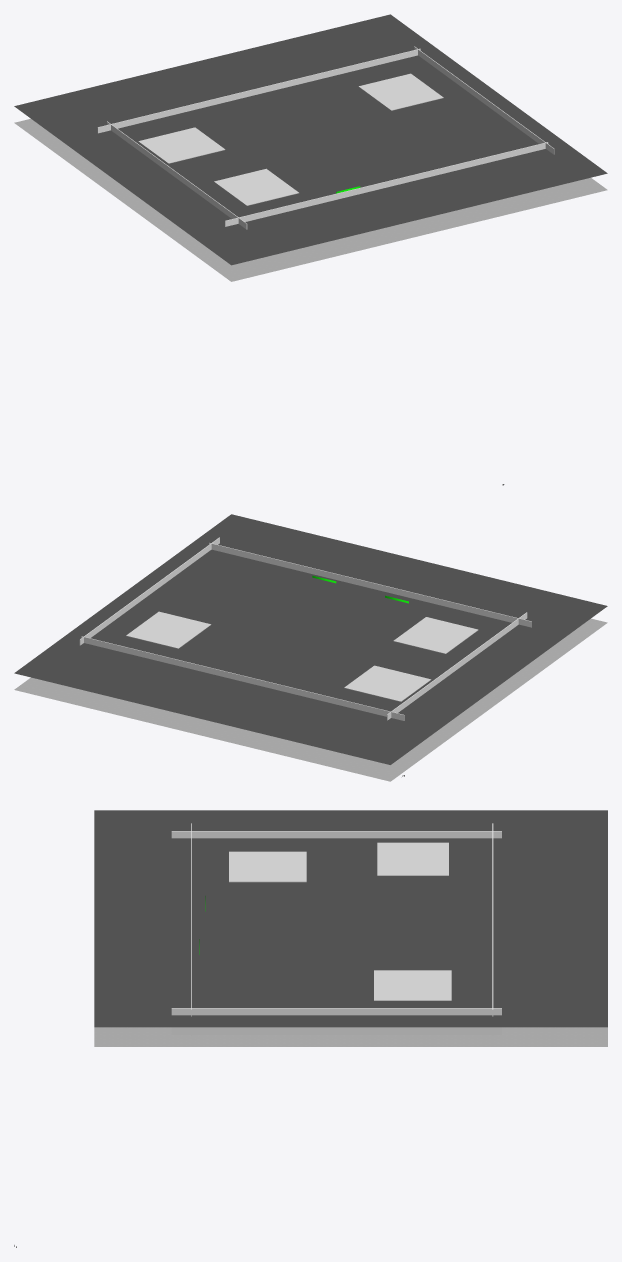
Rendered from floor4.glb.
3 renders of one model, top to bottom at view 1: azimuth 30°, elevation 25°; view 2: azimuth 150°, elevation 25°; view 3: azimuth 270°, elevation 25°, orthographic. The views are drawn at different scales.
Parts seen in each view (by area): view 1: Ceiling, Floor, Wall.001, Wall.002, Roomblock.001, Roomblock.002, Roomblock, Wall, Wall.003; view 2: Ceiling, Floor, Wall.001, Wall.002, Roomblock.001, Roomblock, Roomblock.002, Wall.003, Wall; view 3: Ceiling, Floor, Wall, Wall.003, Roomblock.002, Roomblock.001, Roomblock.
Boxes of the visible parts, bbox=[...] form: Ceiling: bbox=[14, 14, 607, 265]; Floor: bbox=[14, 118, 607, 281]; Wall.001: bbox=[97, 48, 420, 133]; Wall.002: bbox=[225, 142, 548, 226]; Roomblock.001: bbox=[138, 127, 225, 163]; Roomblock.002: bbox=[214, 168, 298, 205]; Roomblock: bbox=[358, 73, 443, 110]; Wall: bbox=[414, 46, 554, 154]; Wall.003: bbox=[107, 121, 247, 229]; Ceiling: bbox=[14, 514, 607, 764]; Floor: bbox=[14, 618, 607, 781]; Wall.001: bbox=[81, 636, 404, 720]; Wall.002: bbox=[209, 543, 531, 627]; Roomblock.001: bbox=[344, 665, 431, 701]; Roomblock: bbox=[126, 611, 211, 648]; Roomblock.002: bbox=[393, 617, 478, 653]; Wall.003: bbox=[387, 612, 527, 720]; Wall: bbox=[79, 537, 219, 645]; Ceiling: bbox=[94, 810, 607, 1027]; Floor: bbox=[94, 1027, 607, 1046]; Wall: bbox=[171, 1008, 501, 1034]; Wall.003: bbox=[171, 831, 501, 838]; Roomblock.002: bbox=[229, 851, 306, 882]; Roomblock.001: bbox=[377, 842, 448, 875]; Roomblock: bbox=[374, 970, 451, 1000].
Bounding box in the file's own units: 140 × 92.19 × 162.
Materials: 22 (8 with a texture image).
